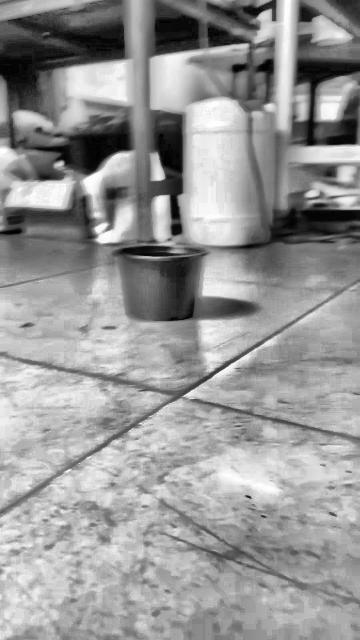pot: (115, 245, 207, 321)
